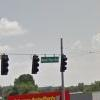Traffic light: (26, 49, 42, 82)
